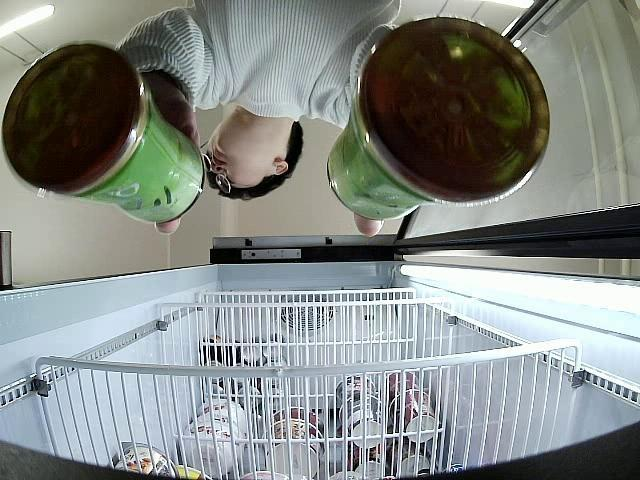19_17cha: (327, 19, 550, 220), (4, 40, 203, 224)
